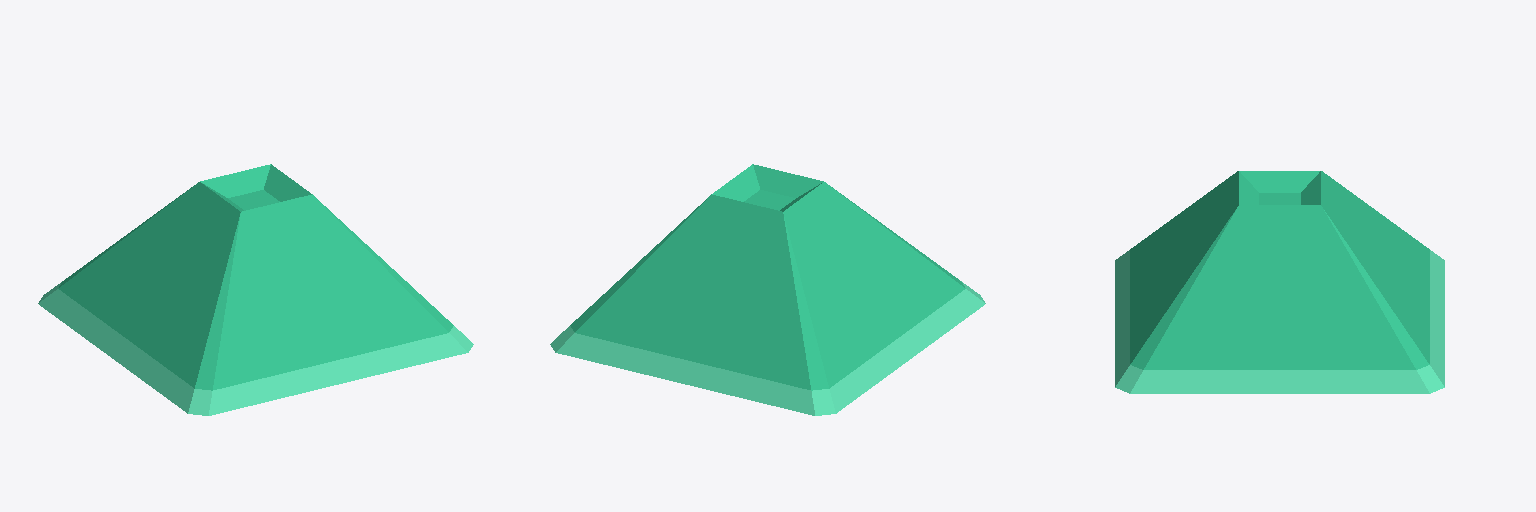
Rendered from roofPoint.obj.
The picture shows the model from 3 angles: view 1: azimuth 30°, elevation 25°; view 2: azimuth 150°, elevation 25°; view 3: azimuth 270°, elevation 25°; orthographic projection.
Visible parts, largest first — view 1: roofPoint; view 2: roofPoint; view 3: roofPoint.
Part boxes in pixels (bbox=[...]): roofPoint: bbox=[38, 164, 473, 415]; roofPoint: bbox=[550, 164, 985, 415]; roofPoint: bbox=[1115, 171, 1444, 393].
Size of the model in its own units: 1.1 by 0.5 by 1.1.